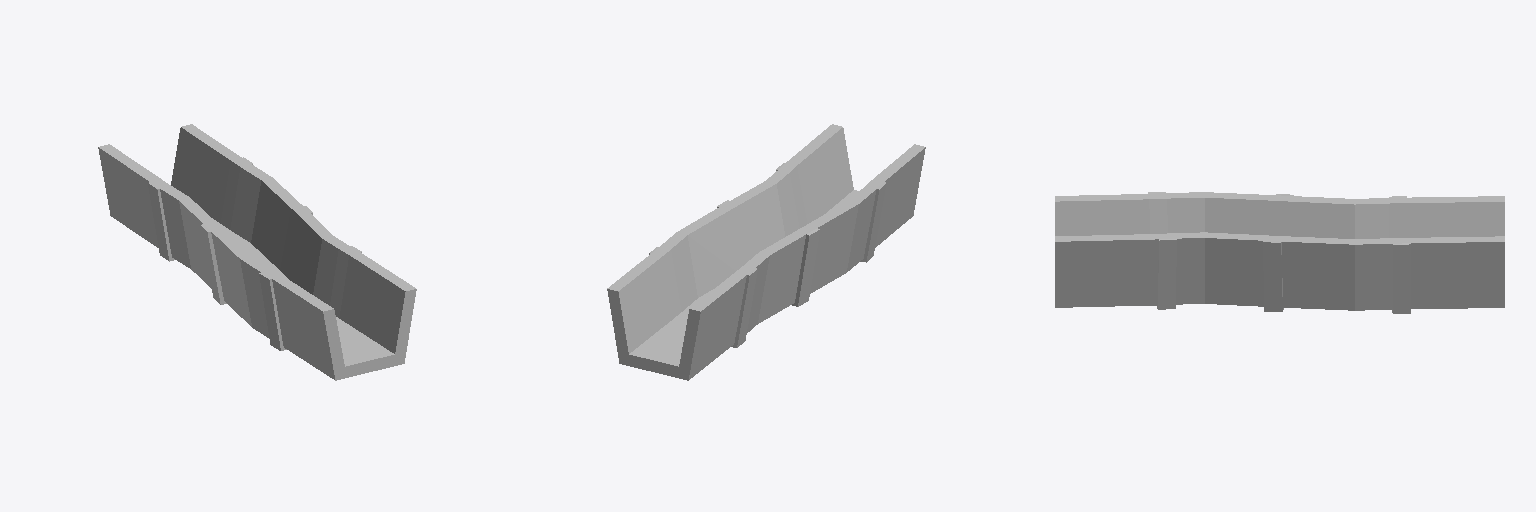
The model's file is WaterTunnel.obj.
3 views of the same model, side by side, from view 1: azimuth 30°, elevation 25°; view 2: azimuth 150°, elevation 25°; view 3: azimuth 270°, elevation 25° (orthographic).
Parts seen in each view (by area): view 1: Water_Funnel_Cube.082; view 2: Water_Funnel_Cube.082; view 3: Water_Funnel_Cube.082.
Part boxes in pixels (x1,y1,x2,y2): Water_Funnel_Cube.082: (98, 124, 416, 380); Water_Funnel_Cube.082: (607, 124, 925, 380); Water_Funnel_Cube.082: (1055, 192, 1504, 313).
Bounding box in the file's own units: 4.21 × 2.8 × 15.11.